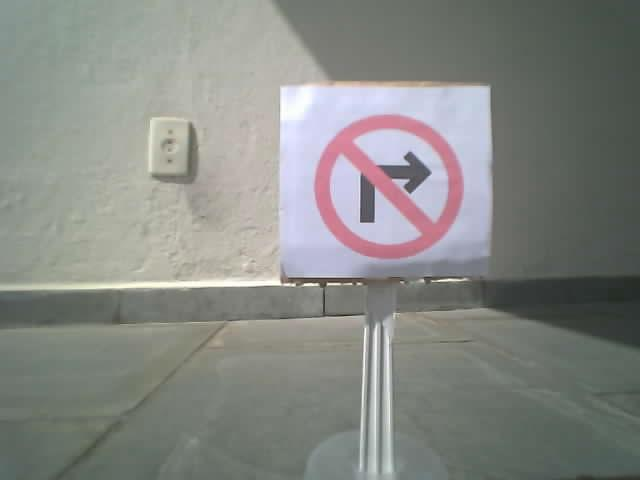R-4b_proibido-direita: (313, 112, 463, 258)
